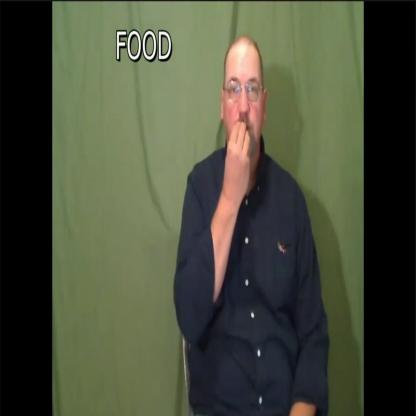Food: (217, 36, 273, 200)
